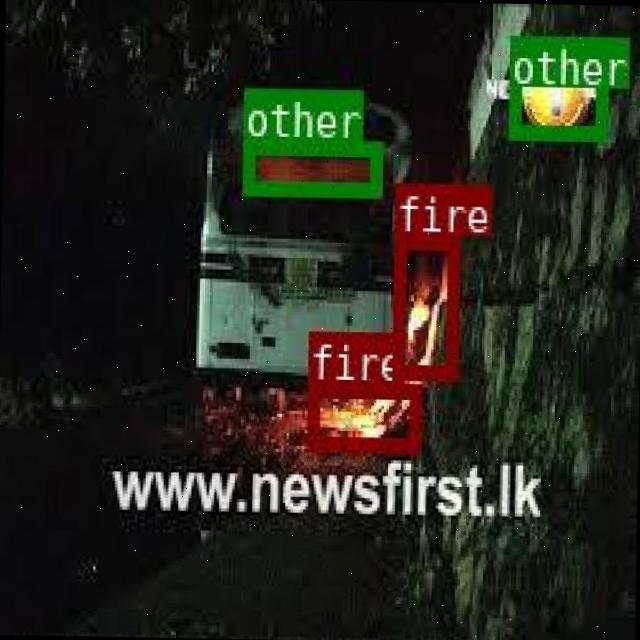fire: (392, 230, 458, 378), (306, 379, 417, 448)
